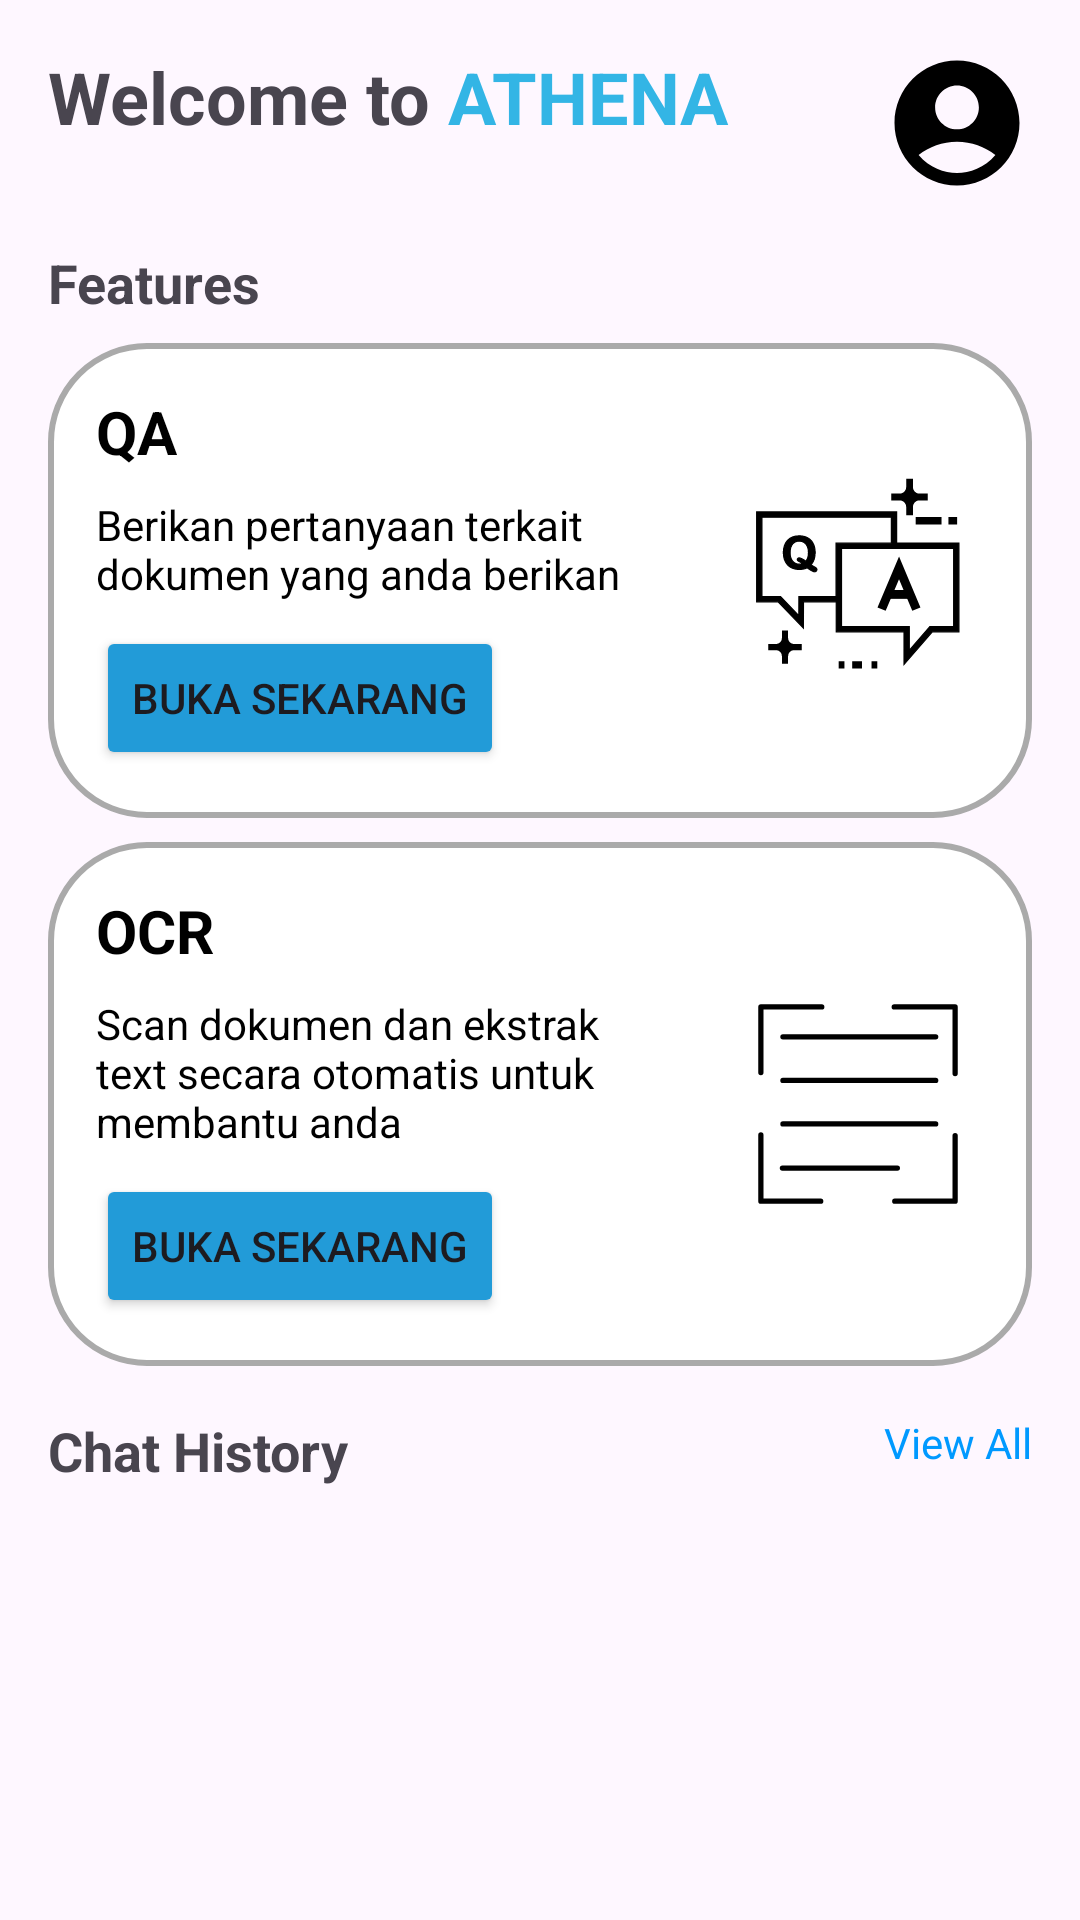

Icon bounding boxes for this 1080px×1920px phone screenshot, format detection(x1, y1, x2, y2):
account circle: detection(894, 60, 1020, 186)
ocr: detection(758, 1004, 958, 1204)
qna: detection(756, 478, 960, 669)
